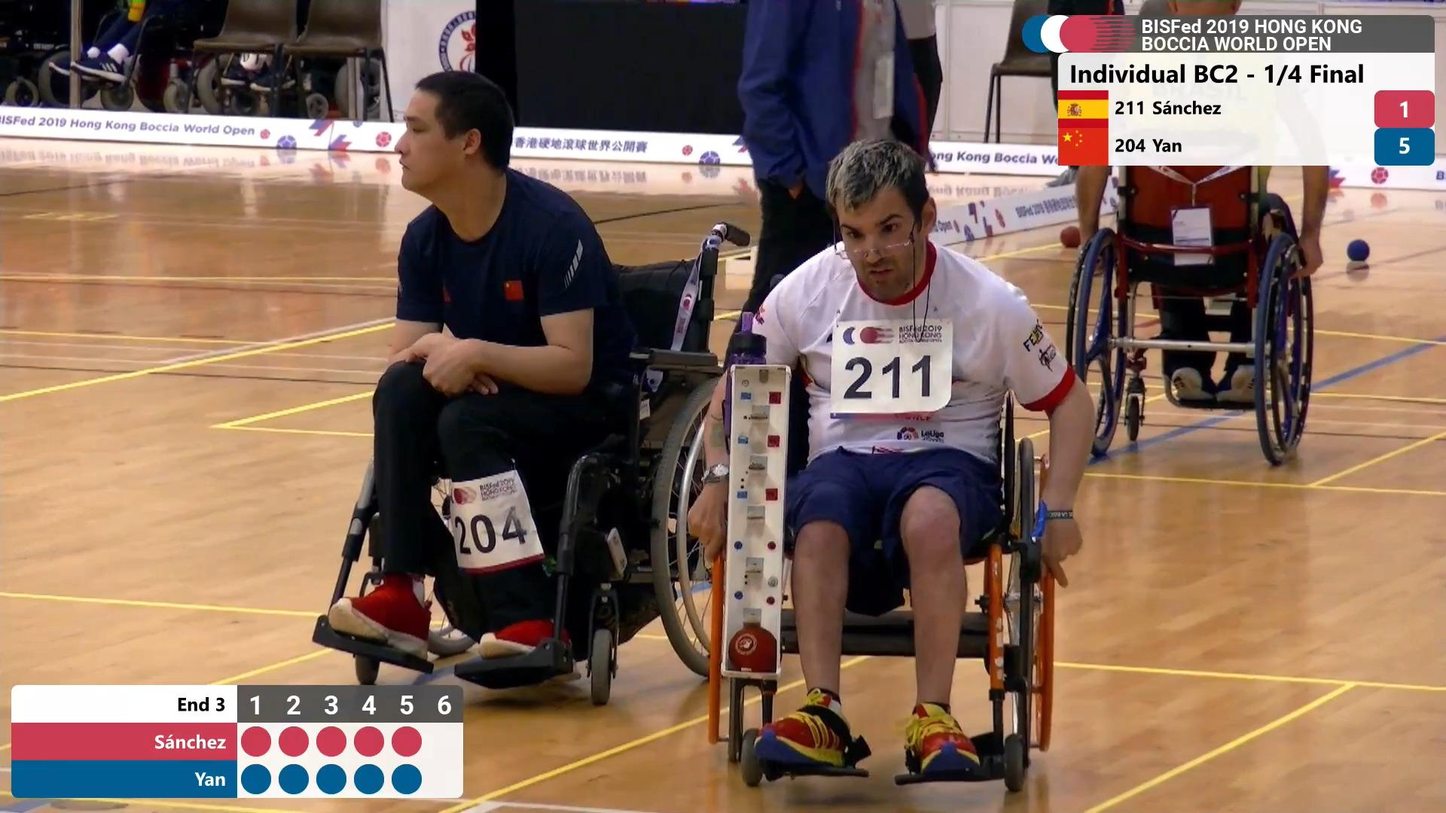red_ball: (723, 619, 784, 680)
